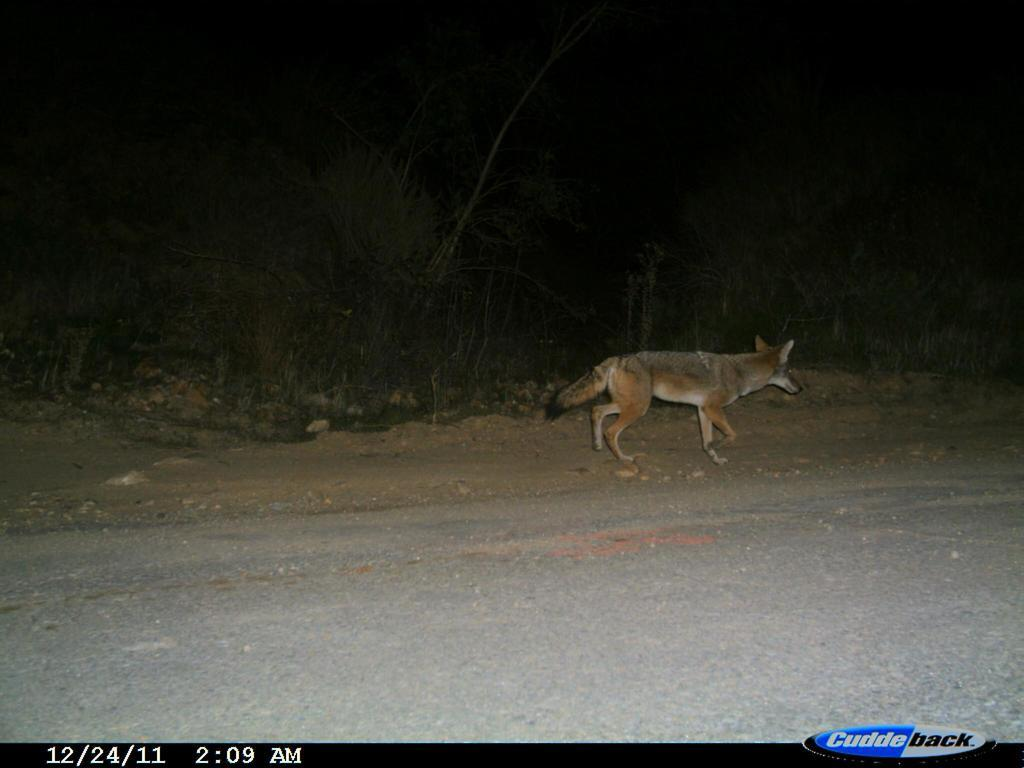coyote: (539, 329, 816, 466)
